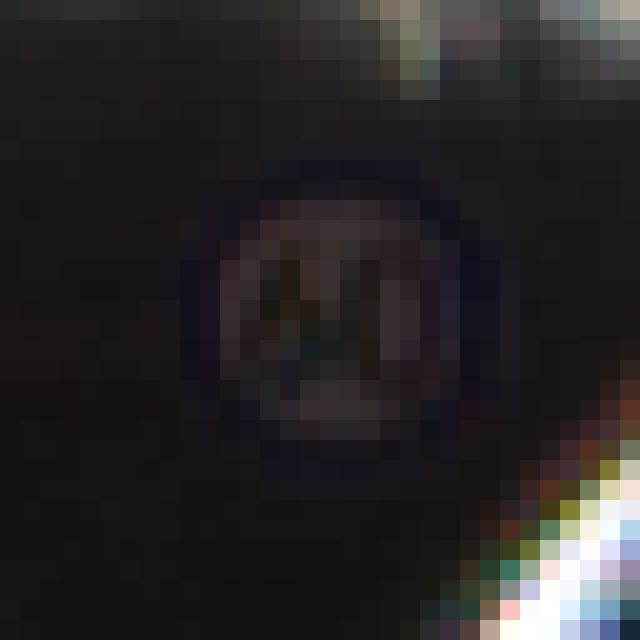SPEED-LIMIT-60: (157, 149, 512, 488)
